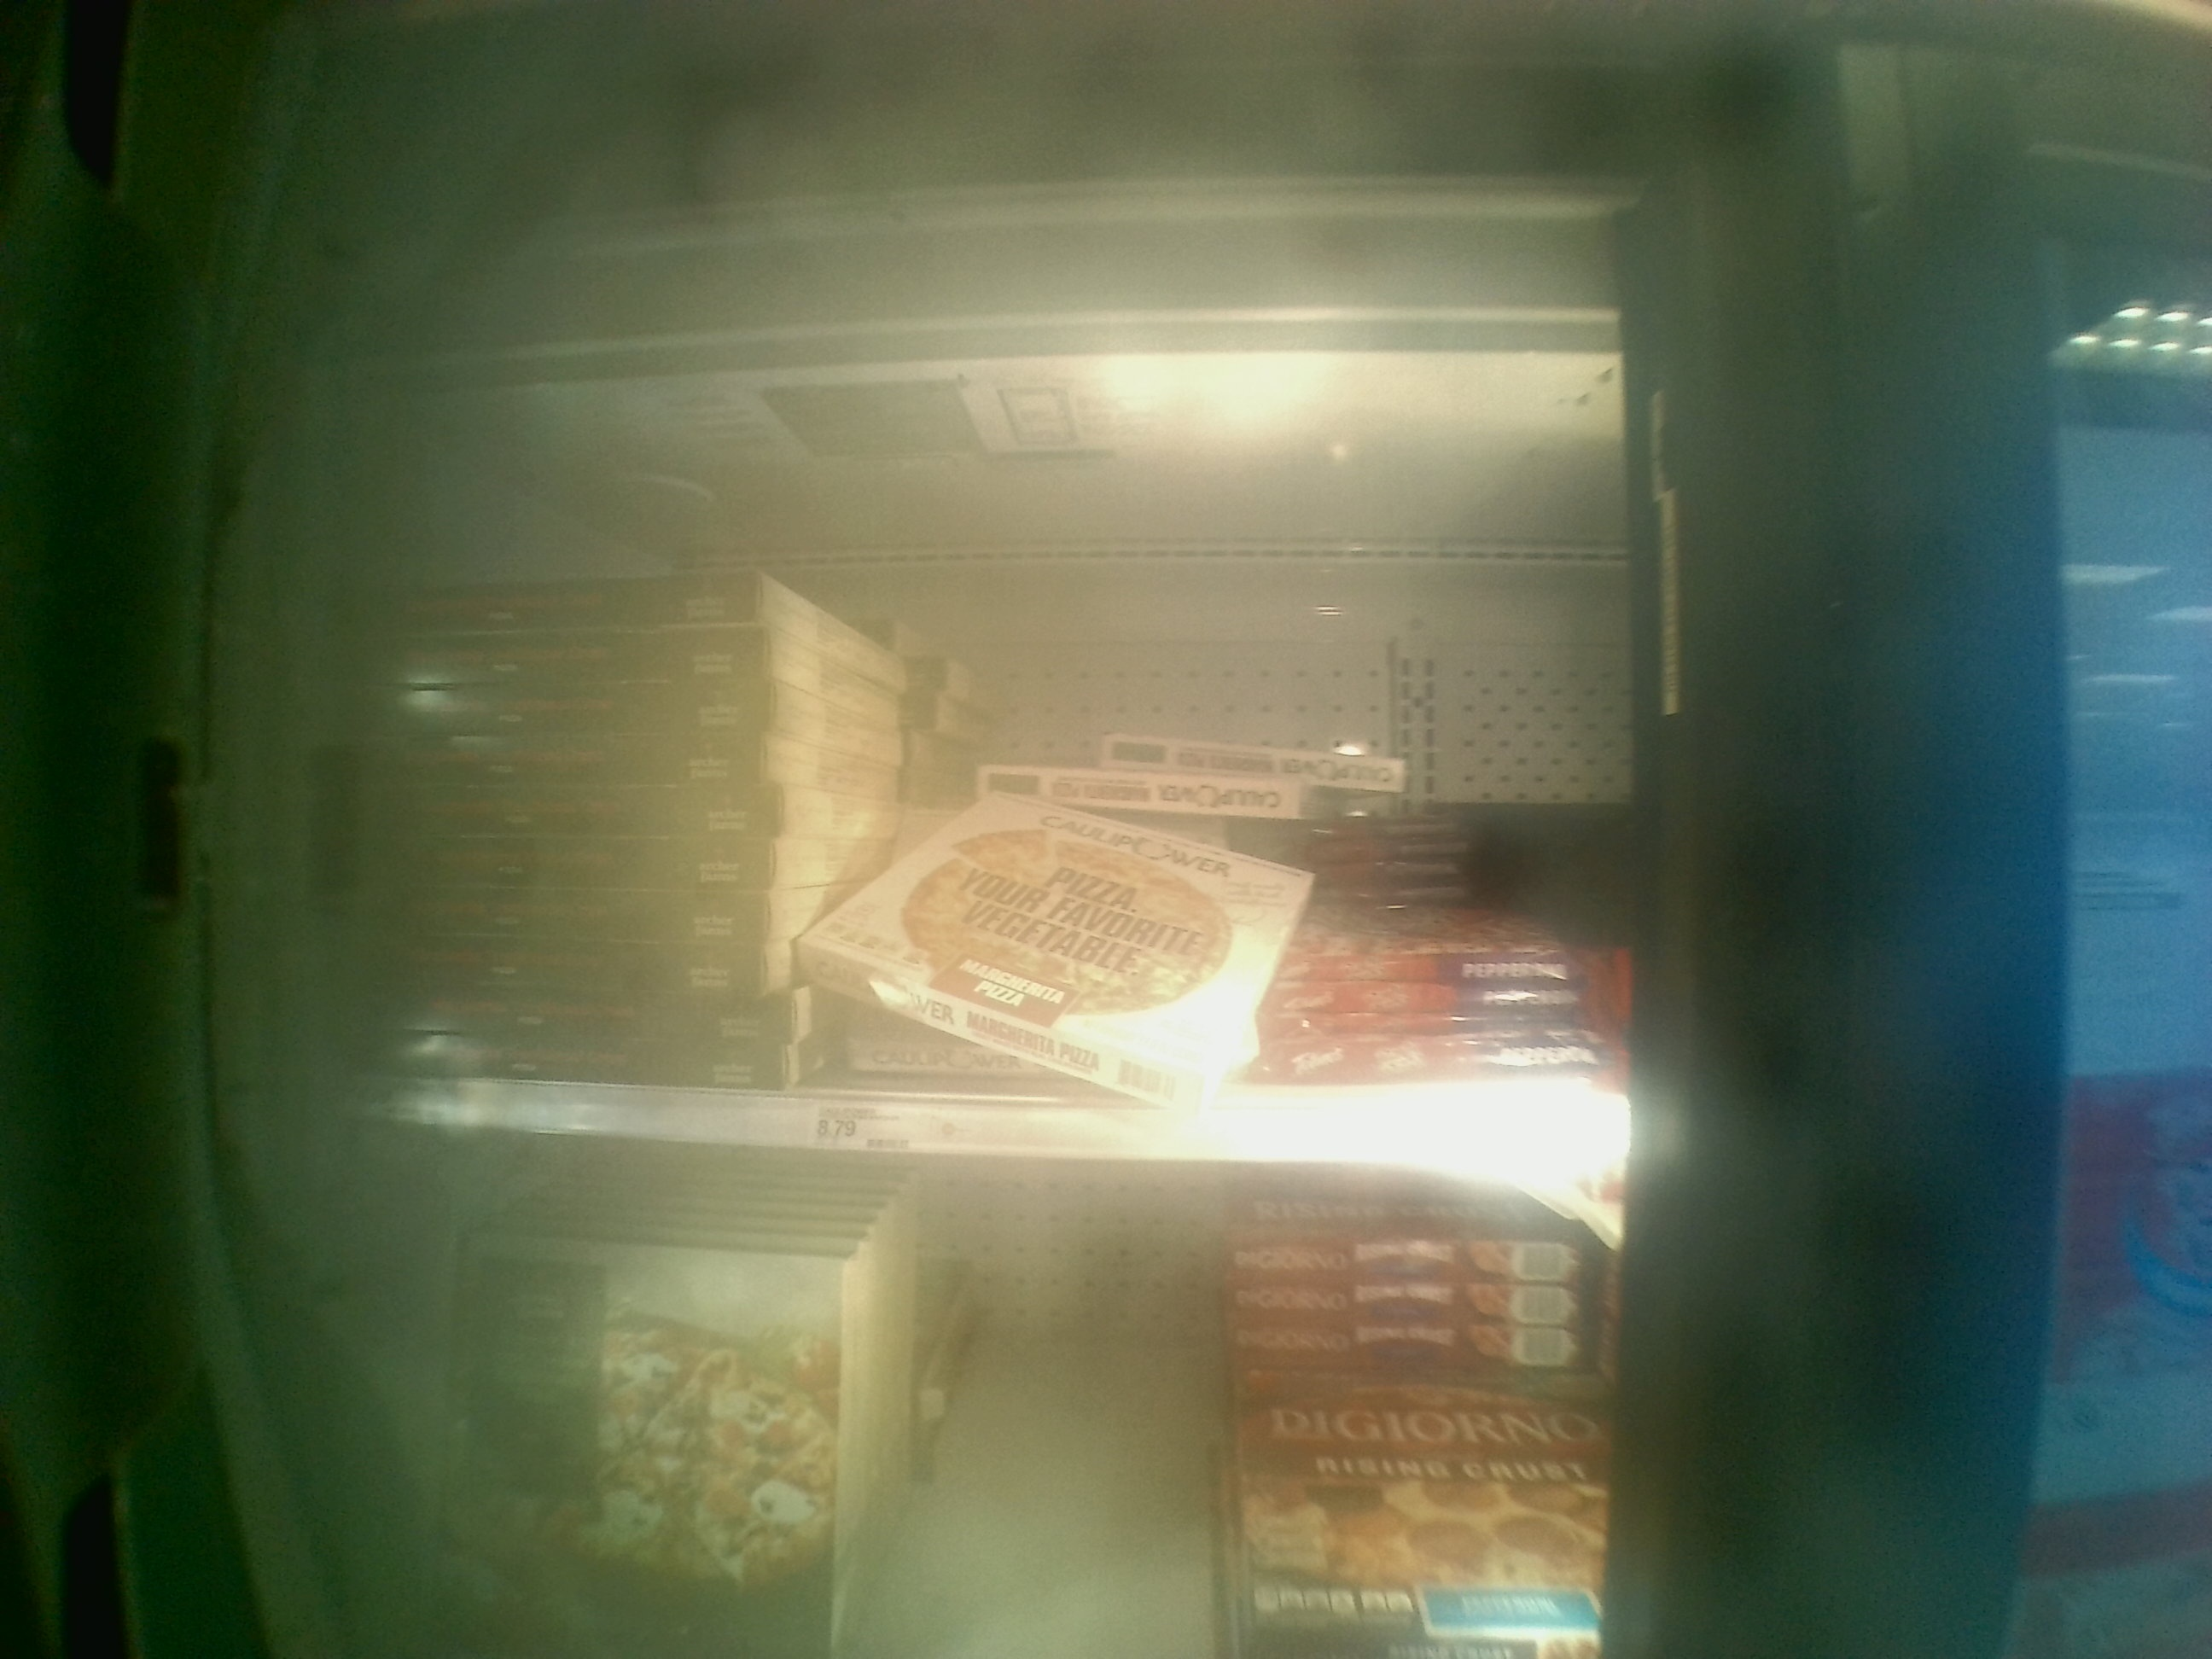shelf: (343, 336, 1616, 1162)
